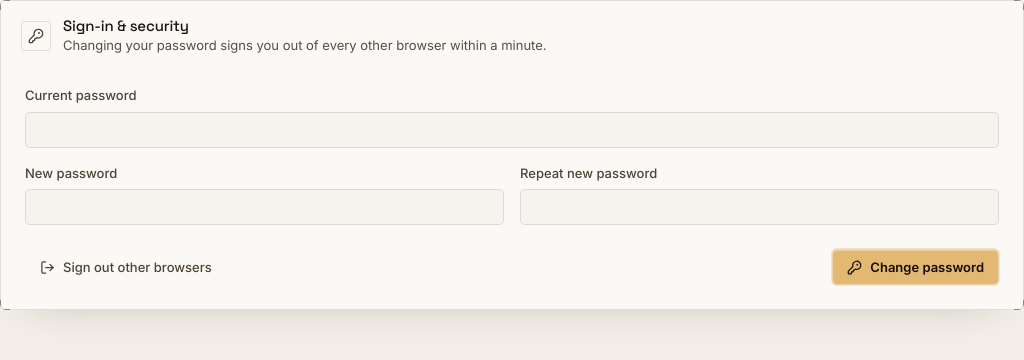
Test case: SecurityCard › rejects a repeat that does not match
Type "old-pass-1" into the password field labelled "Current password" at (512, 130), box left=25, top=112, right=999, bottom=148
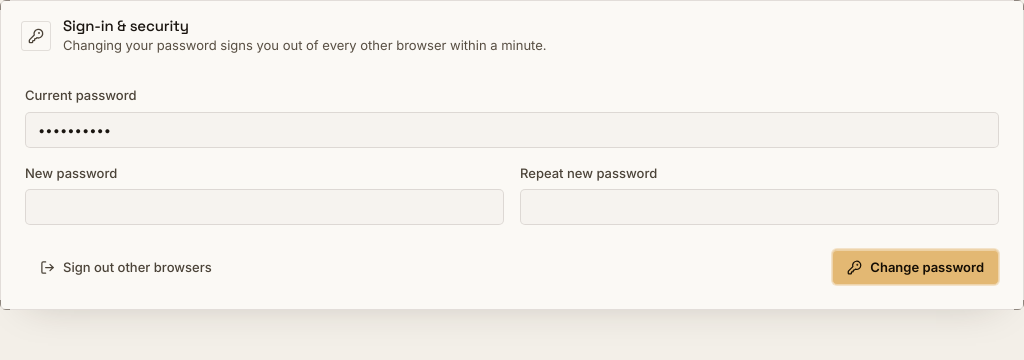
Type "new-pass-2" into the password field labelled "New password" at (264, 207), box left=25, top=189, right=504, bottom=225
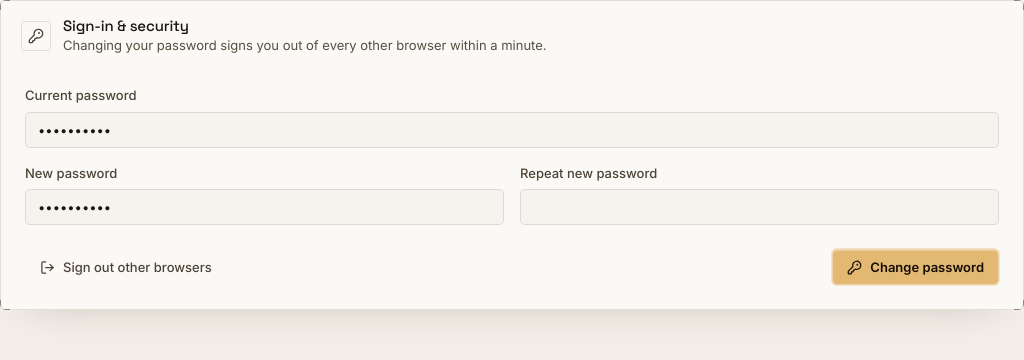
Type "new-pass-3" into the password field labelled "Repeat new password" at (760, 207), box left=520, top=189, right=999, bottom=225
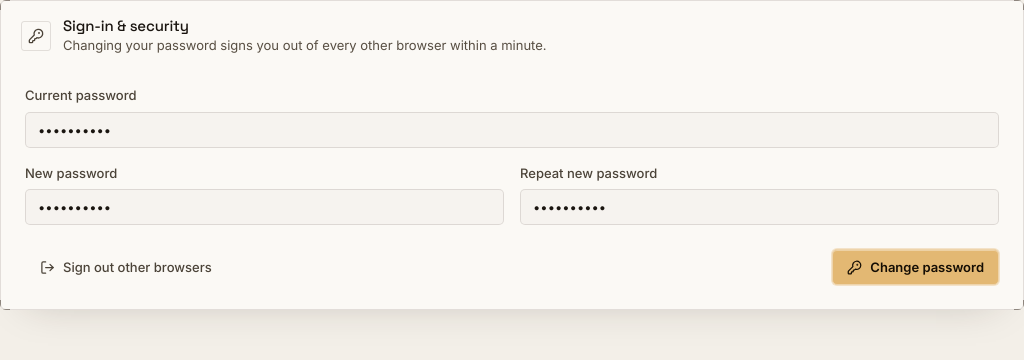
Click the button "Change password" at (916, 267), box left=832, top=249, right=999, bottom=285
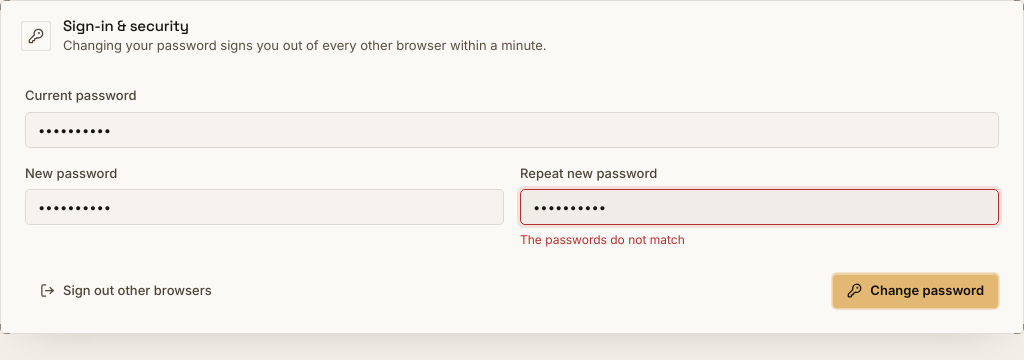
Expected: the text "The passwords do not match" is shown, left=520, top=232, right=685, bottom=247
